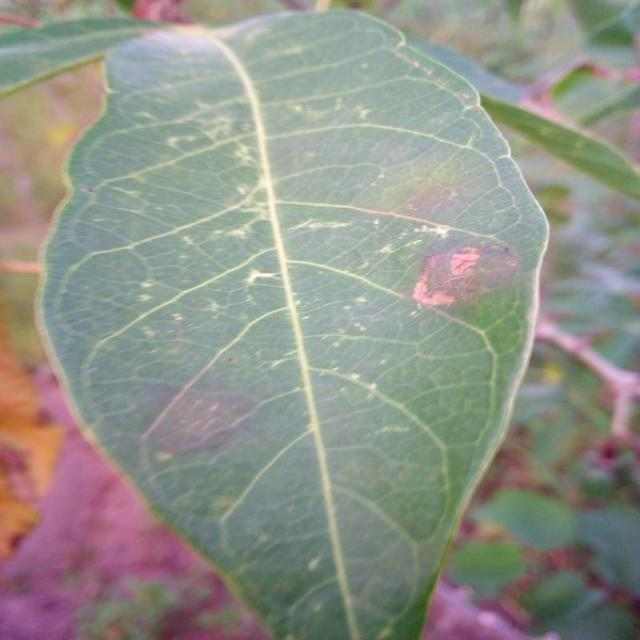cassava leaf: (33, 7, 550, 638)
